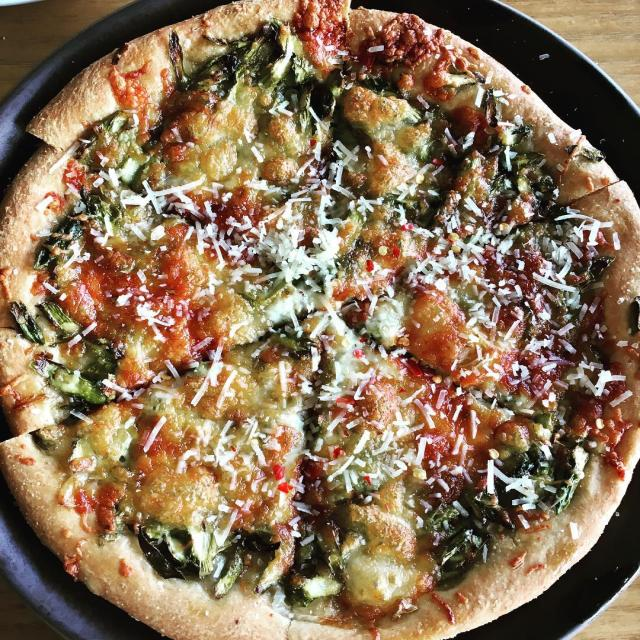pizza: (0, 0, 639, 640)
